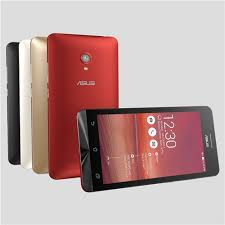asus: (75, 104, 220, 192)
